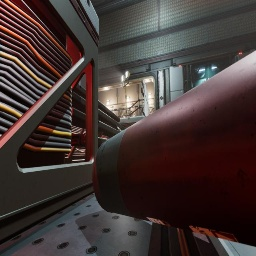0: (117, 127, 123, 133)
NitrogenTank ,: (92, 51, 256, 247)
